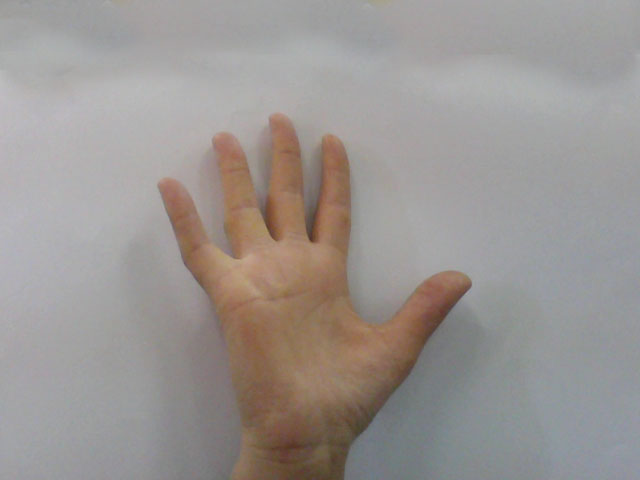hand: (142, 100, 486, 441)
